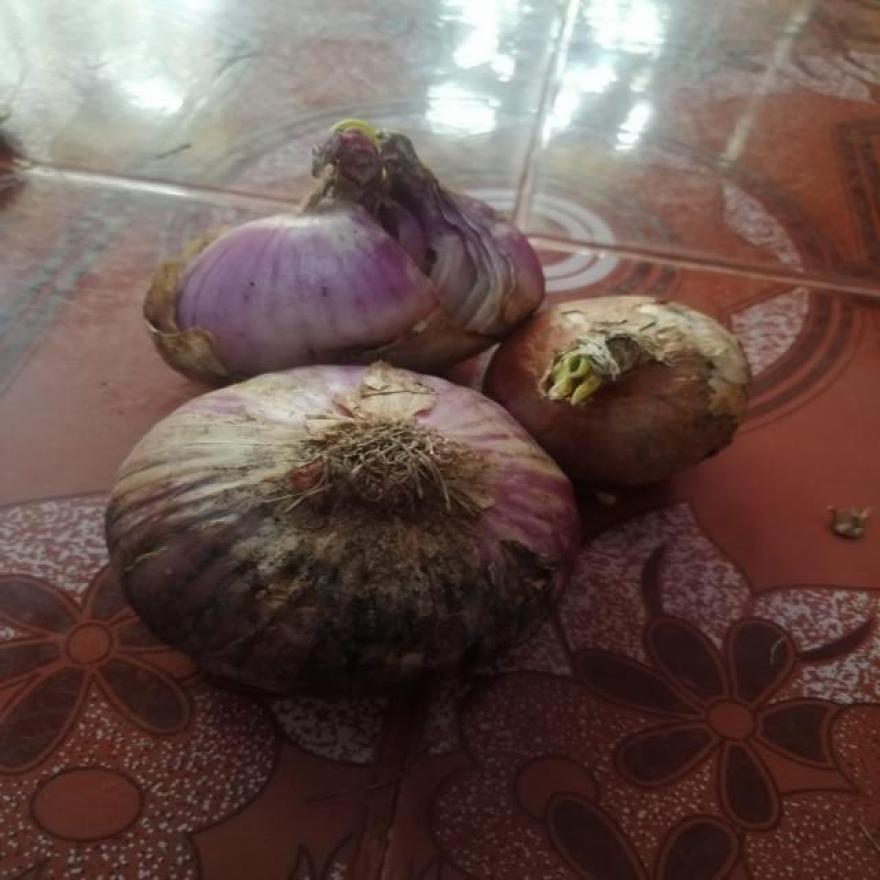Rotten: (227, 528, 527, 663), (386, 218, 502, 324)
Sprouted: (284, 123, 424, 196), (548, 352, 625, 411)
